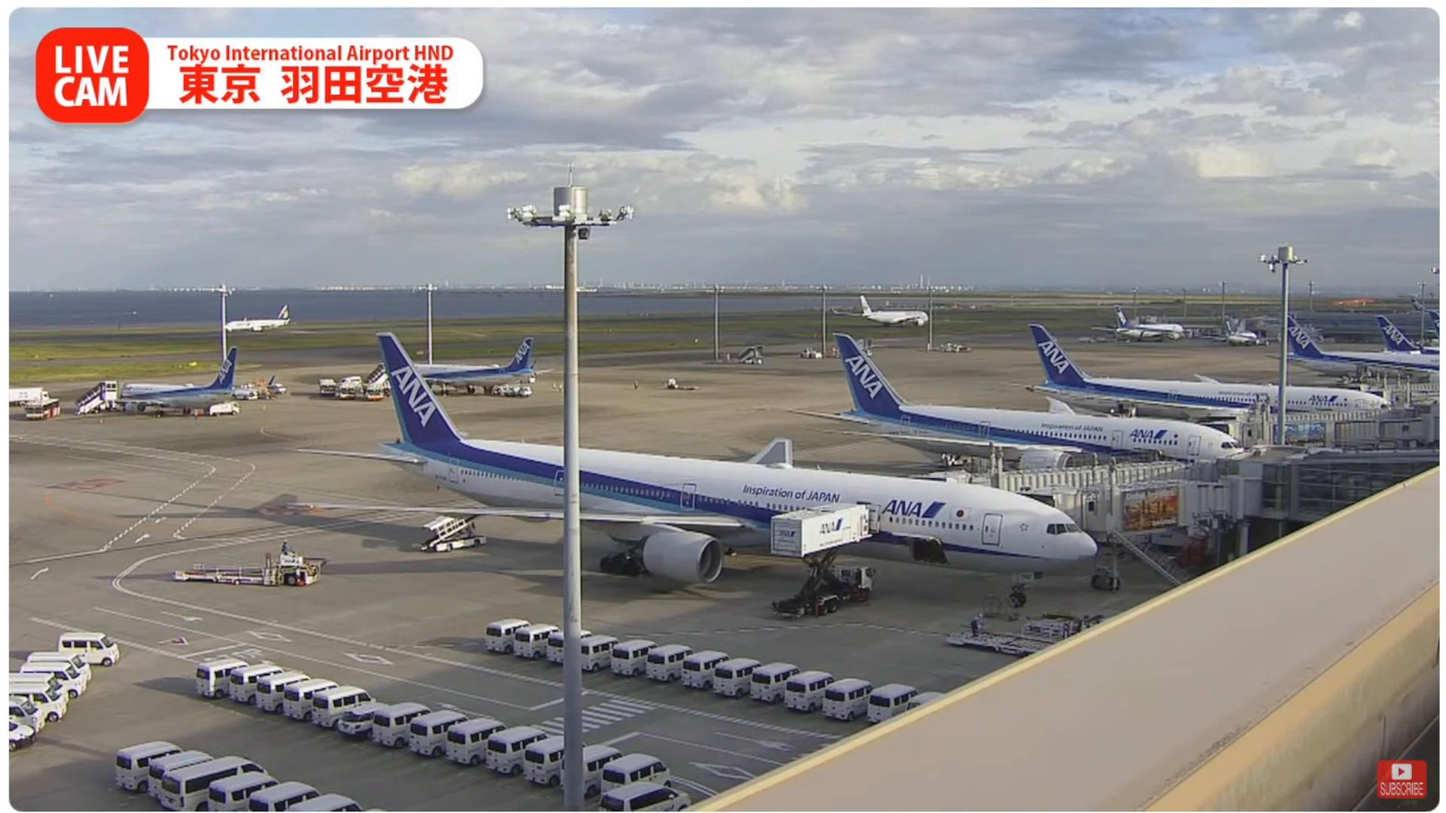Aerobridge: (937, 438, 1217, 490), (1025, 480, 1229, 535)
Airplane: (279, 328, 1099, 610)
Catering: (769, 506, 876, 620)
JCPL: (171, 538, 325, 584), (944, 626, 1078, 652)
Skyloader: (417, 513, 486, 554)
Window: (1286, 455, 1435, 523)
